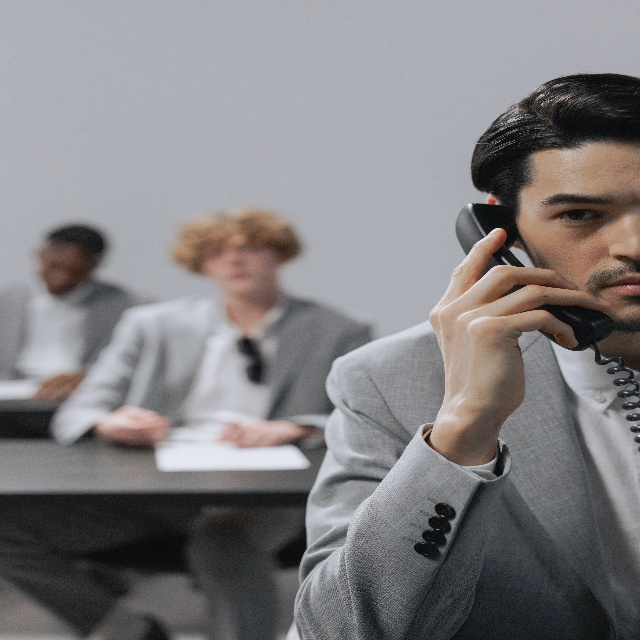Gafas: (238, 338, 262, 382)
Sin_guantes: (429, 236, 611, 411), (110, 403, 169, 446)
